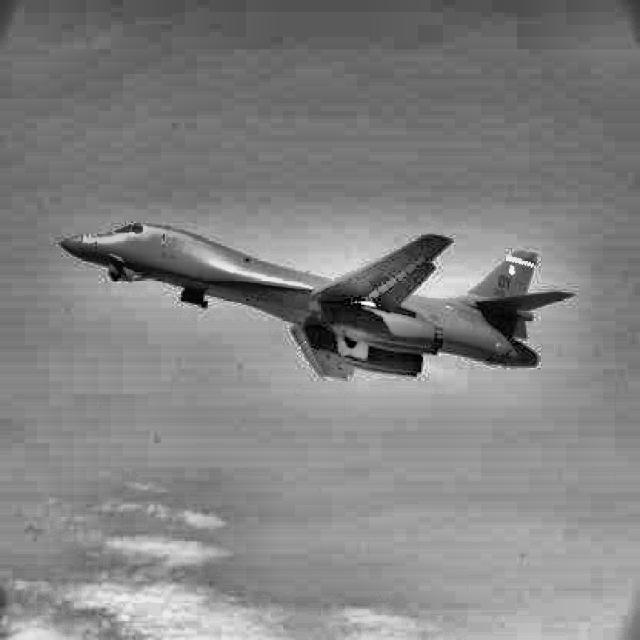B1: (60, 222, 575, 381)
